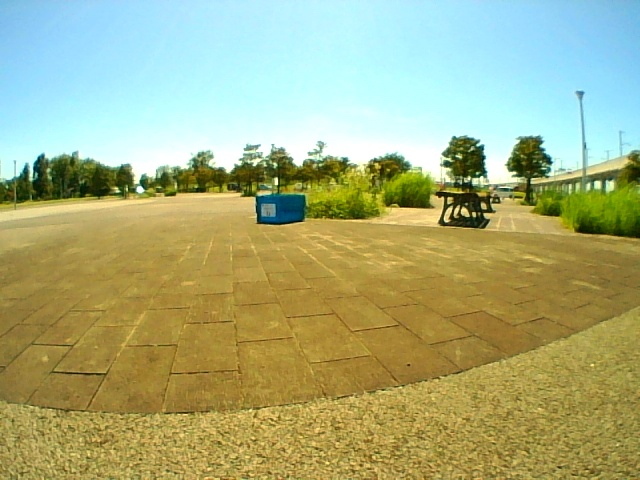blue_box: (258, 195, 305, 223)
tag: (261, 205, 272, 216)
